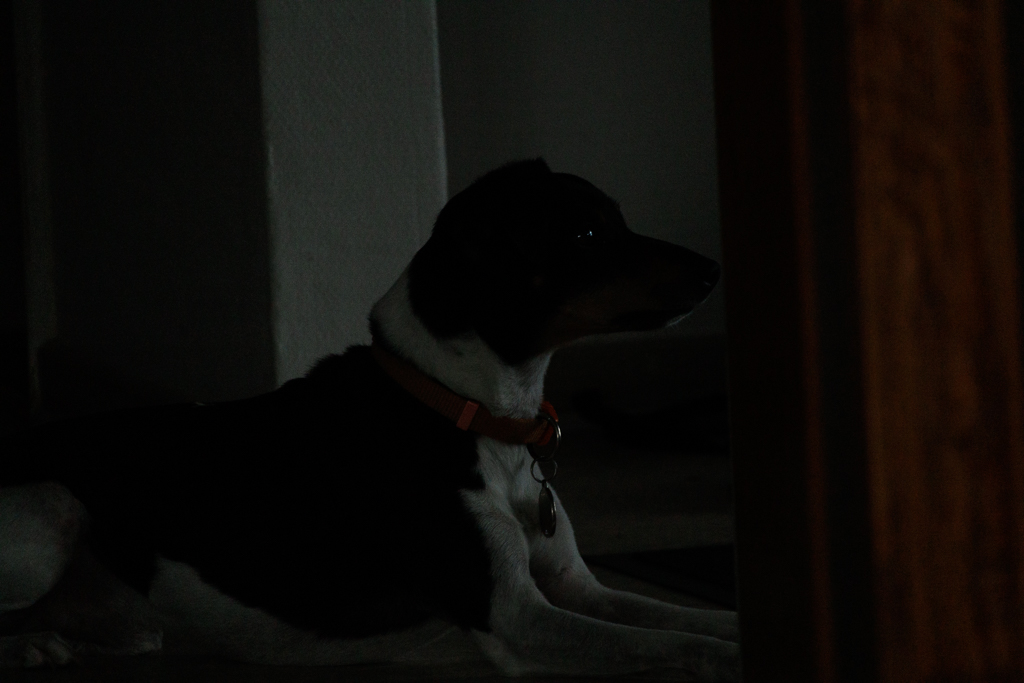Dog: (0, 144, 755, 683)
